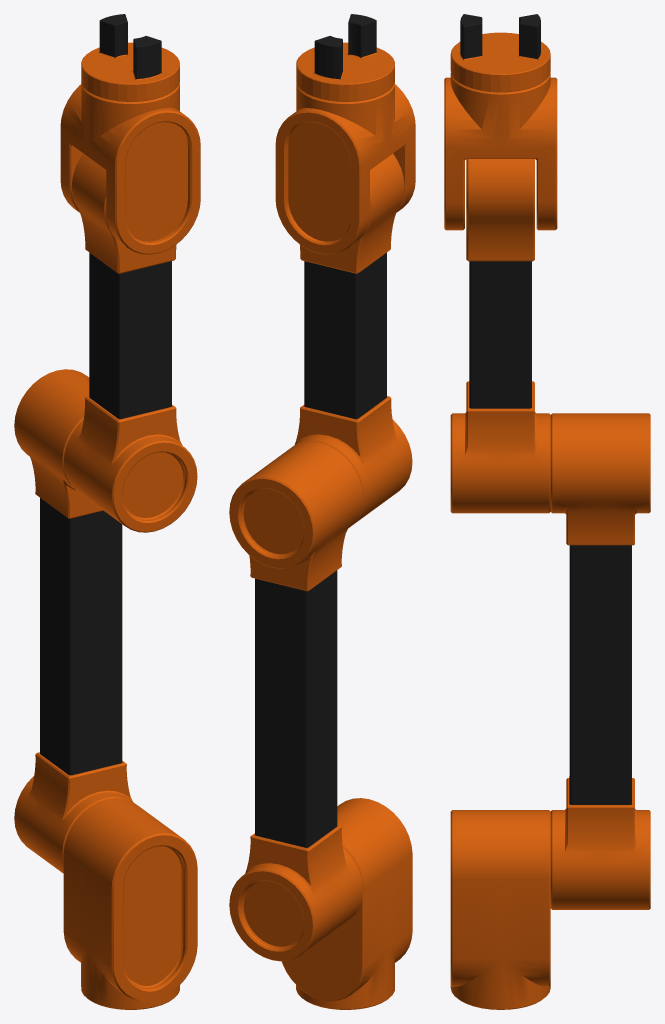
File: RobotArmVisual.fbx
The picture shows the model from 3 angles, left to right: view 1: azimuth 30°, elevation 25°; view 2: azimuth 150°, elevation 25°; view 3: azimuth 270°, elevation 25°; orthographic projection.
Visible parts, largest first — view 1: Base, UpperArm, Wrist, Elbow, LowerArm, ElbowUpper, Shoulder, Cylinder.015, WristLower; view 2: UpperArm, Wrist, Base, ElbowUpper, Shoulder, LowerArm, Elbow, Cylinder.015, WristLower; view 3: Base, UpperArm, ElbowUpper, Wrist, Elbow, Shoulder, LowerArm, WristLower, Cylinder.015.
Part boxes in pixels (bbox=[...]): Base: bbox=[63, 798, 197, 1009]; UpperArm: bbox=[40, 498, 122, 775]; Wrist: bbox=[60, 82, 200, 254]; Elbow: bbox=[64, 396, 197, 532]; LowerArm: bbox=[89, 252, 171, 419]; ElbowUpper: bbox=[14, 369, 102, 518]; Shoulder: bbox=[14, 752, 134, 873]; Cylinder.015: bbox=[81, 14, 179, 101]; WristLower: bbox=[71, 153, 176, 273]; UpperArm: bbox=[255, 570, 337, 847]; Wrist: bbox=[275, 82, 415, 254]; Base: bbox=[281, 798, 412, 1009]; ElbowUpper: bbox=[229, 441, 362, 591]; Shoulder: bbox=[229, 824, 362, 961]; LowerArm: bbox=[304, 252, 386, 419]; Elbow: bbox=[291, 396, 412, 525]; Cylinder.015: bbox=[296, 14, 394, 101]; WristLower: bbox=[299, 153, 404, 273]; Base: bbox=[450, 810, 550, 1009]; UpperArm: bbox=[569, 545, 631, 804]; ElbowUpper: bbox=[550, 413, 650, 545]; Wrist: bbox=[444, 72, 557, 230]; Elbow: bbox=[450, 381, 550, 513]; Shoulder: bbox=[550, 778, 650, 909]; LowerArm: bbox=[469, 261, 531, 408]; WristLower: bbox=[466, 159, 534, 261]; Cylinder.015: bbox=[450, 14, 550, 92].
Size of the model in its own units: 8.03 by 85.57 by 16.52.
